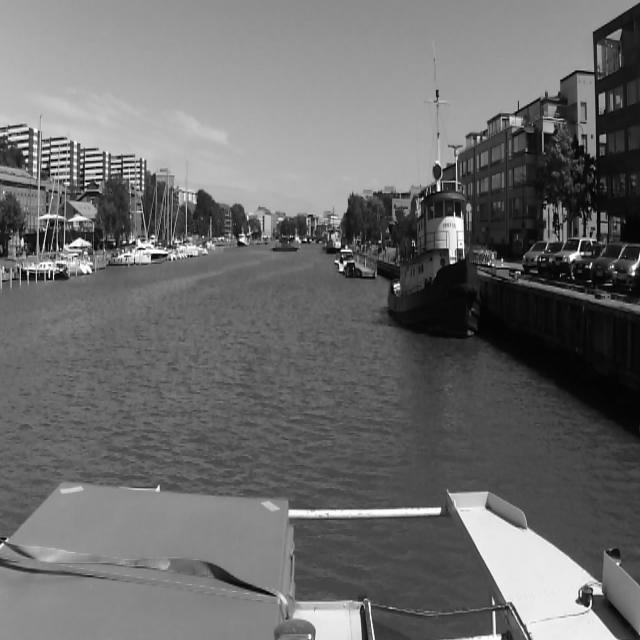ship: (386, 58, 482, 346), (17, 113, 70, 280), (111, 152, 150, 266), (330, 235, 352, 282), (267, 235, 301, 252), (233, 230, 251, 250), (327, 228, 341, 252), (343, 266, 362, 279)
